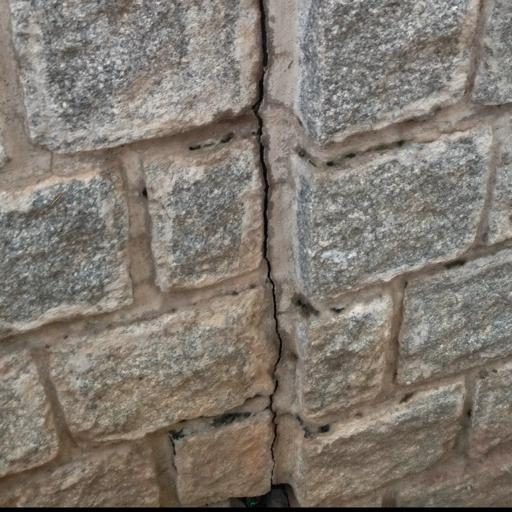major_crack: (210, 0, 311, 512)
